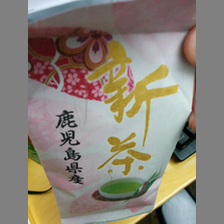tea: (28, 1, 195, 224)
